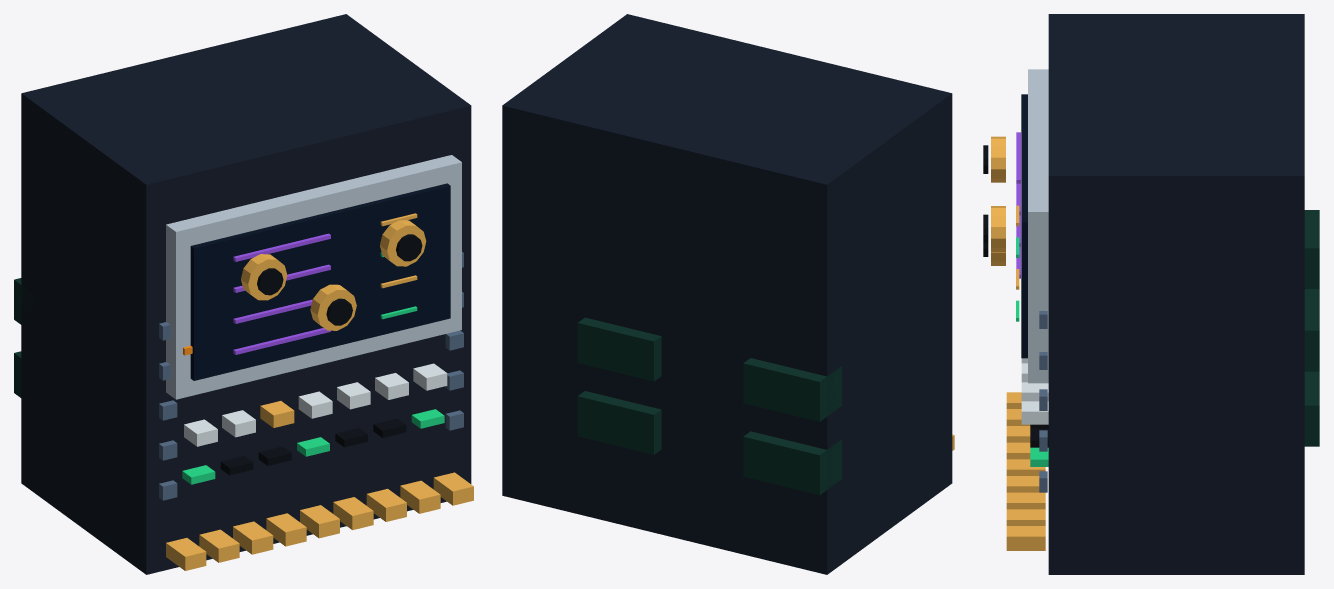
File: 43_L91_PhotonEventBufferD.fbx
3 renders of one model, left to right at view 1: azimuth 30°, elevation 25°; view 2: azimuth 150°, elevation 25°; view 3: azimuth 270°, elevation 25°, orthographic. The views are drawn at different scales.
Visible parts, largest first — view 1: L91_PhotonEventBufferD, L91_PhotonEventBufferD_Part_0014, L91_PhotonEventBufferD_Part_0016, L91_PhotonEventBufferD_Part_0012; view 2: L91_PhotonEventBufferD; view 3: L91_PhotonEventBufferD, L91_PhotonEventBufferD_Part_0012, L91_PhotonEventBufferD_Part_0016.
Part boxes in pixels (x1,y1,x2,y2): L91_PhotonEventBufferD: (14,14,473,574); L91_PhotonEventBufferD_Part_0014: (310,284,356,330); L91_PhotonEventBufferD_Part_0016: (380,220,426,266); L91_PhotonEventBufferD_Part_0012: (241,254,287,300); L91_PhotonEventBufferD: (502,14,954,574); L91_PhotonEventBufferD: (1006,14,1319,574); L91_PhotonEventBufferD_Part_0012: (991,136,1005,182); L91_PhotonEventBufferD_Part_0016: (991,206,1005,251).
Size of the model in its own units: 108 by 123 by 94.29.
